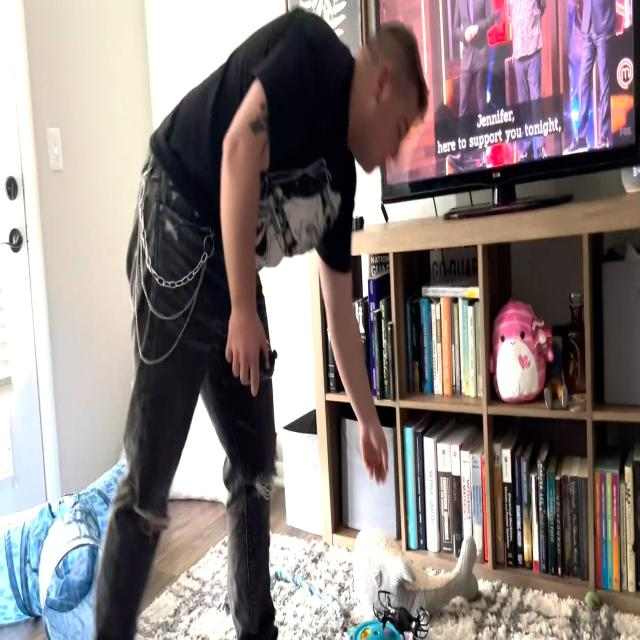drone: (366, 578, 437, 640)
